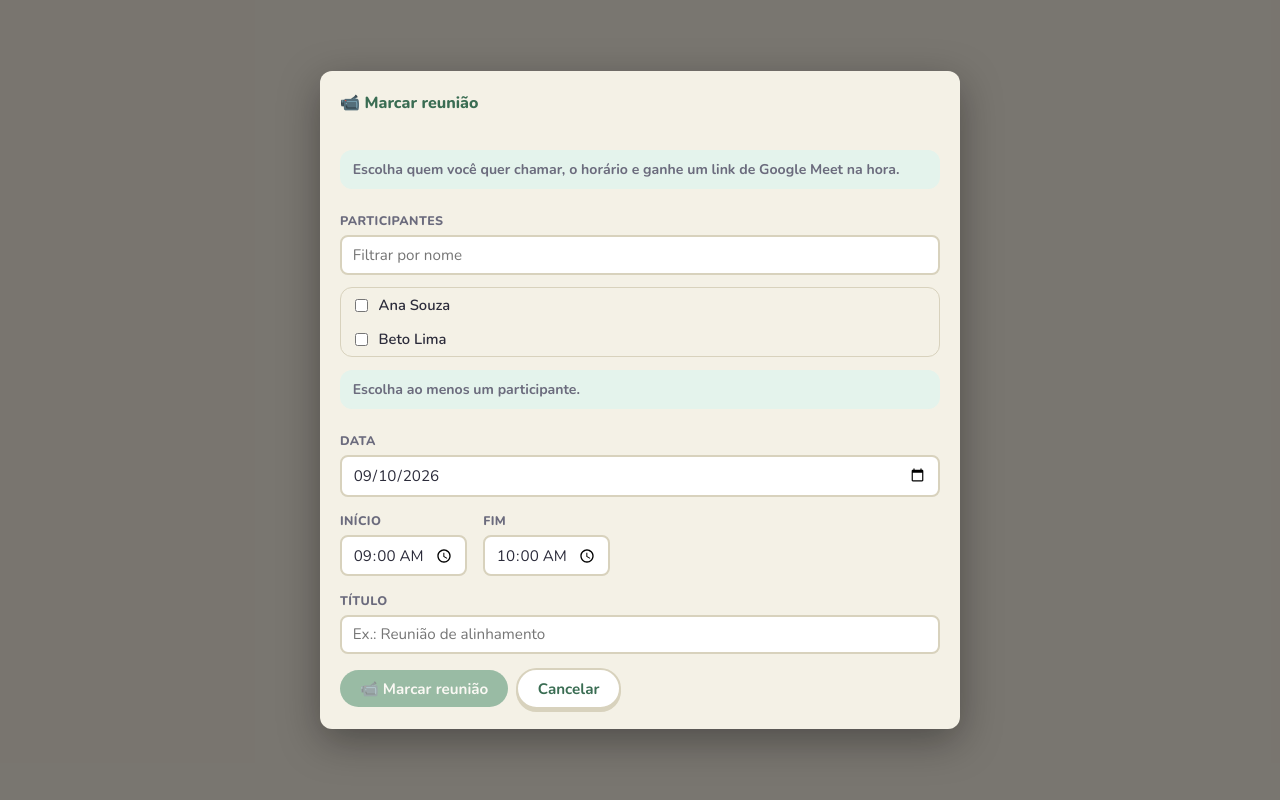
MarcarReuniaoComMeetModal › lista as pessoas pra escolher como participante, filtrável por nome
Expected: the checkbox labelled "Ana Souza" is shown, [355,299,368,312]
Expected: the checkbox labelled "Beto Lima" is shown, [355,333,368,346]
Type "Beto" into the field labelled "Participantes" at (640, 255), box [340,235,940,274]
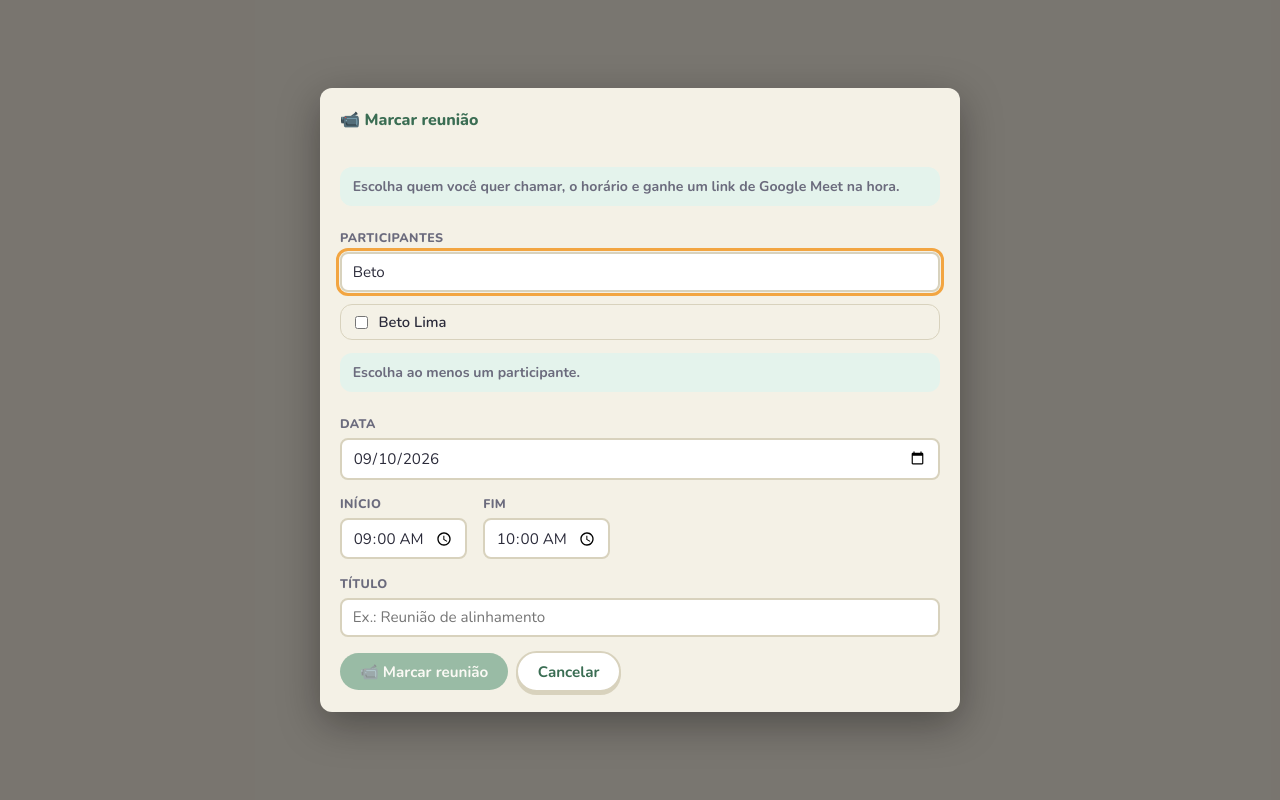
Expected: the checkbox labelled "Beto Lima" is shown, [355,316,368,329]
Expected: the label "Ana Souza" is gone
